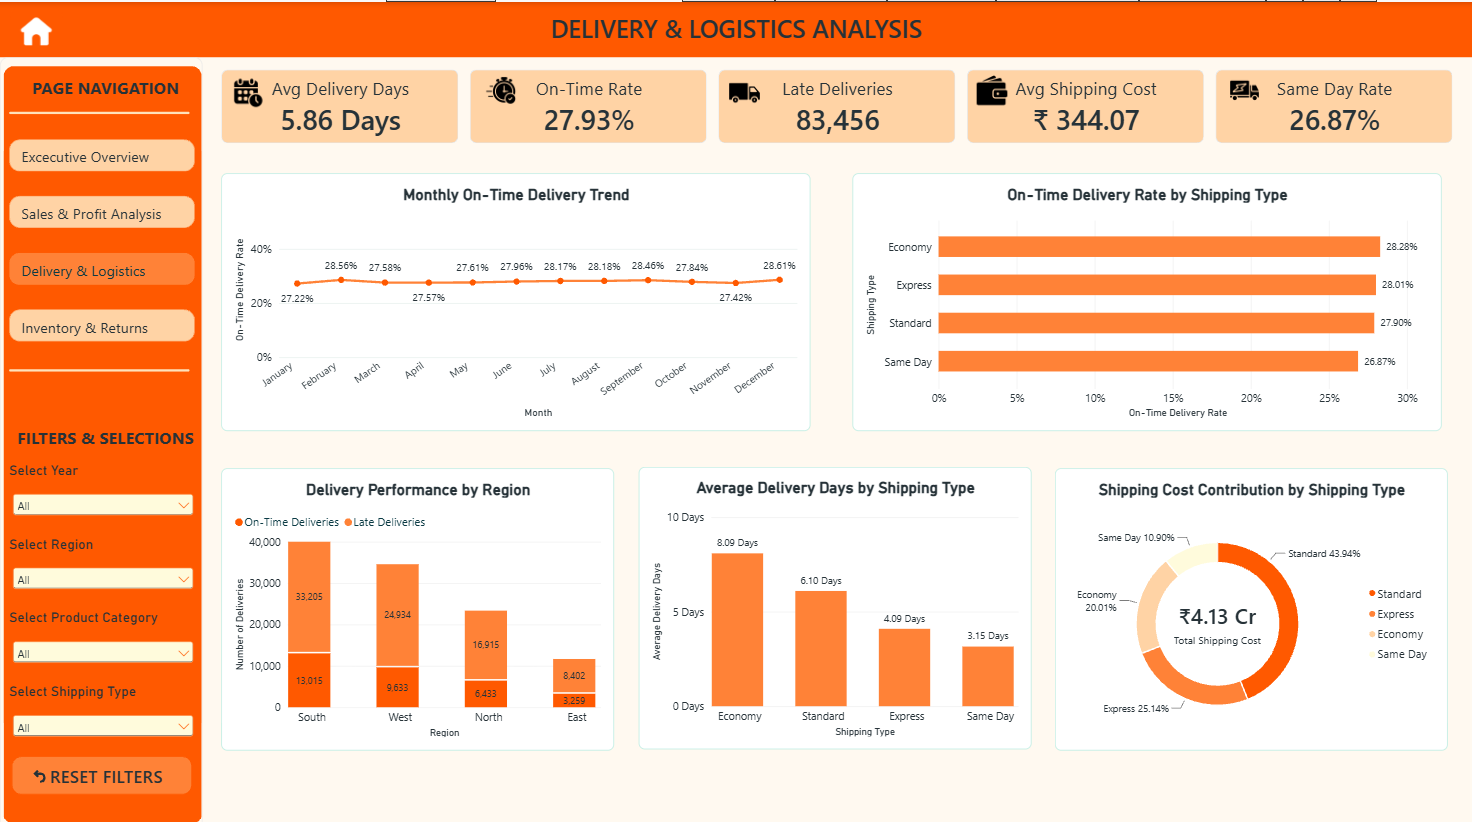

The dashboard page shown, as its layout file describes it:
{"tool":"powerbi","page":{"name":"Delivery & Logistics","canvas":[1920,1080],"ordinal":3},"visuals":[{"type":"shape","box":[0,0,1920,72],"z":0},{"type":"textbox","box":[0,0,1920,96],"z":1000},{"type":"cardVisual","fields":{"Data":["_Measures.Average Delivery Days","_Measures.On-Time Delivery Rate","_Measures.Late Deliveries","_Measures.Average Shipping Cost","_Measures.Same Day Delivery Rate"]},"box":[288,88,1608,96],"z":2000},{"type":"shape","box":[0,72,264,1008],"z":3000},{"type":"slicer","title":"Select Year ","fields":{"Values":["Supply_Chain.Order_Date.Variation.Date Hierarchy.Year"]},"box":[0,600,264,72],"z":4000},{"type":"slicer","title":"Select Region","fields":{"Values":["Supply_Chain.Region"]},"box":[0,696,264,72],"z":5000},{"type":"slicer","title":"Select Product Category","fields":{"Values":["Supply_Chain.Product_Category"]},"box":[0,792,264,72],"z":6000},{"type":"slicer","title":"Select Shipping Type","fields":{"Values":["Supply_Chain.Shipping_Type"]},"box":[0,888,264,72],"z":7000},{"type":"pageNavigator","box":[0,168,264,288],"z":8000},{"type":"textbox","box":[0,96,264,72],"z":9000},{"type":"shape","box":[0,120,256,32],"z":10000},{"type":"shape","box":[0,456,256,32],"z":11000},{"type":"textbox","box":[0,552,264,72],"z":12000},{"type":"actionButton","box":[4,976,256,64],"z":13000},{"type":"columnChart","title":"Delivery Performance by Region","fields":{"Category":["Supply_Chain.Region"],"Y":["_Measures.On-Time Flag 1 Count","_Measures.Late Deliveries"]},"box":[288,608,512,368],"z":14000},{"type":"clusteredBarChart","title":"On-Time Delivery Rate by Shipping Type","fields":{"Category":["Supply_Chain.Shipping_Type"],"Y":["_Measures.On-Time Delivery Rate"]},"box":[1112,224,768,336],"z":15000},{"type":"lineChart","title":"Monthly On-Time Delivery Trend","fields":{"Category":["Supply_Chain.Order_Date.Variation.Date Hierarchy.Month"],"Y":["_Measures.On-Time Delivery Rate"]},"box":[288,224,768,336],"z":16000},{"type":"clusteredColumnChart","title":"Average Delivery Days by Shipping Type","fields":{"Category":["Supply_Chain.Shipping_Type"],"Y":["Avg(Supply_Chain.Delivery_Days)"]},"box":[832,606.7,512,368],"z":17000},{"type":"donutChart","title":"Shipping Cost Contribution by Shipping Type","fields":{"Category":["Supply_Chain.Shipping_Type"],"Y":["_Measures.Total Shipping Cost (Cr)"]},"box":[1376,608,512,368],"z":18000},{"type":"actionButton","box":[0,0,95,70],"z":19000},{"type":"image","box":[288.7,90.7,55,55],"z":20000},{"type":"image","box":[618,88.3,55,55],"z":21000},{"type":"image","box":[935.3,90.7,55,55],"z":22000},{"type":"image","box":[1257.4,88.3,55,55],"z":23000},{"type":"image","box":[1586.6,88.3,55,55],"z":24000}]}

Visuals, with their boxes in screenshot pixels (x1, y1, x2, y2), scaled from the page's 1920x1080 canvas onto the 1472x822 screenshot:
shape: 0, 0, 1471, 55
textbox: 0, 0, 1471, 73
cardVisual - _Measures.Average Delivery Days x _Measures.On-Time Delivery Rate: 221, 67, 1454, 140
shape: 0, 55, 202, 821
"Select Year " slicer: 0, 457, 202, 511
"Select Region" slicer: 0, 530, 202, 585
"Select Product Category" slicer: 0, 603, 202, 658
"Select Shipping Type" slicer: 0, 676, 202, 731
pageNavigator: 0, 128, 202, 347
textbox: 0, 73, 202, 128
shape: 0, 91, 196, 116
shape: 0, 347, 196, 371
textbox: 0, 420, 202, 475
actionButton: 3, 743, 199, 792
"Delivery Performance by Region" columnChart: 221, 463, 613, 743
"On-Time Delivery Rate by Shipping Type" clusteredBarChart: 853, 170, 1441, 426
"Monthly On-Time Delivery Trend" lineChart: 221, 170, 810, 426
"Average Delivery Days by Shipping Type" clusteredColumnChart: 638, 462, 1030, 742
"Shipping Cost Contribution by Shipping Type" donutChart: 1055, 463, 1447, 743
actionButton: 0, 0, 73, 53
image: 221, 69, 264, 111
image: 474, 67, 516, 109
image: 717, 69, 759, 111
image: 964, 67, 1006, 109
image: 1216, 67, 1259, 109
